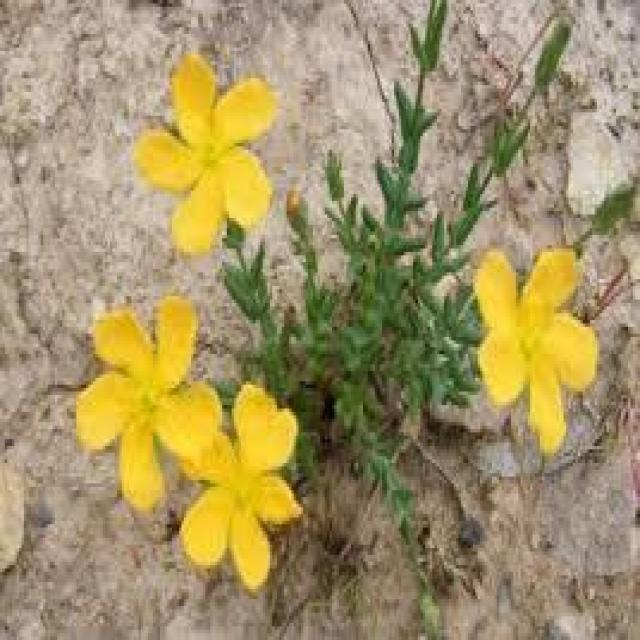organic waste: (62, 303, 234, 511), (462, 220, 610, 454), (165, 375, 308, 599), (134, 51, 284, 255)
